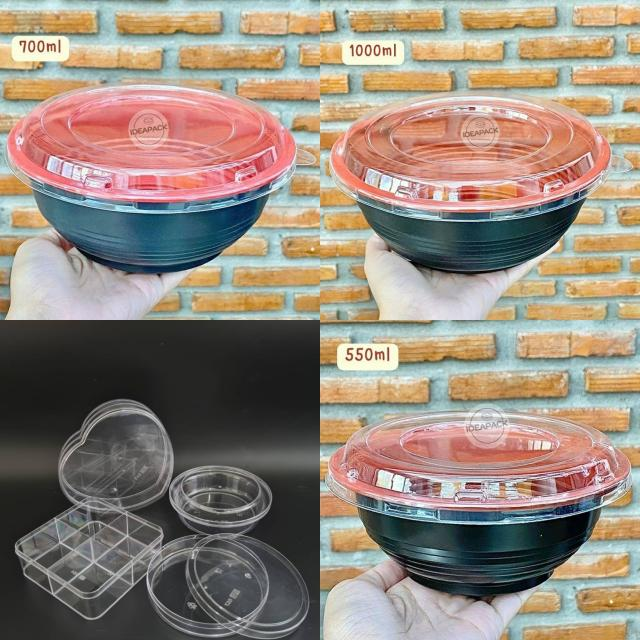Single-Use-Plastic: (326, 406, 631, 596), (6, 84, 314, 272), (330, 92, 631, 272), (15, 498, 162, 620), (185, 534, 309, 640), (59, 399, 174, 511), (146, 535, 235, 638), (169, 466, 272, 534)
